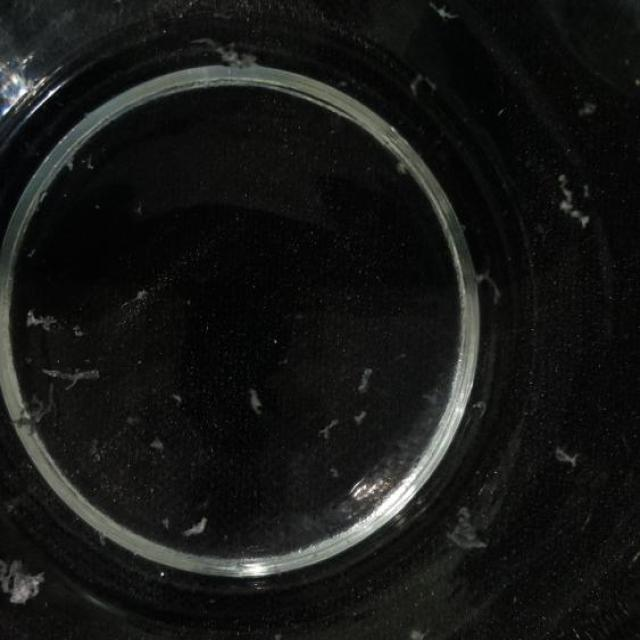fiber: (551, 170, 598, 228), (0, 558, 44, 611), (9, 394, 62, 436), (450, 505, 488, 563), (201, 40, 263, 75), (36, 366, 108, 389), (23, 306, 76, 337), (549, 432, 584, 472), (468, 268, 503, 302), (408, 63, 439, 97), (124, 282, 152, 311), (182, 518, 209, 539), (249, 386, 265, 421), (576, 100, 600, 122), (405, 621, 431, 640), (430, 2, 457, 18), (396, 158, 412, 180), (359, 371, 376, 390), (171, 386, 185, 409), (148, 435, 163, 455), (323, 419, 338, 438), (472, 396, 488, 412), (354, 411, 369, 421)
